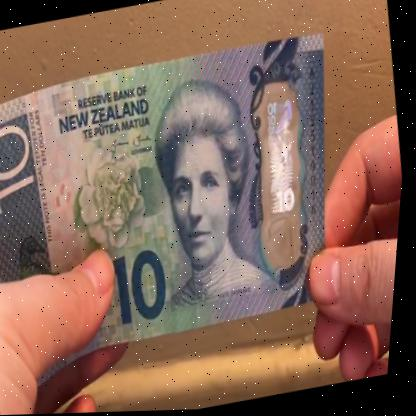10B: (251, 93, 314, 238)
